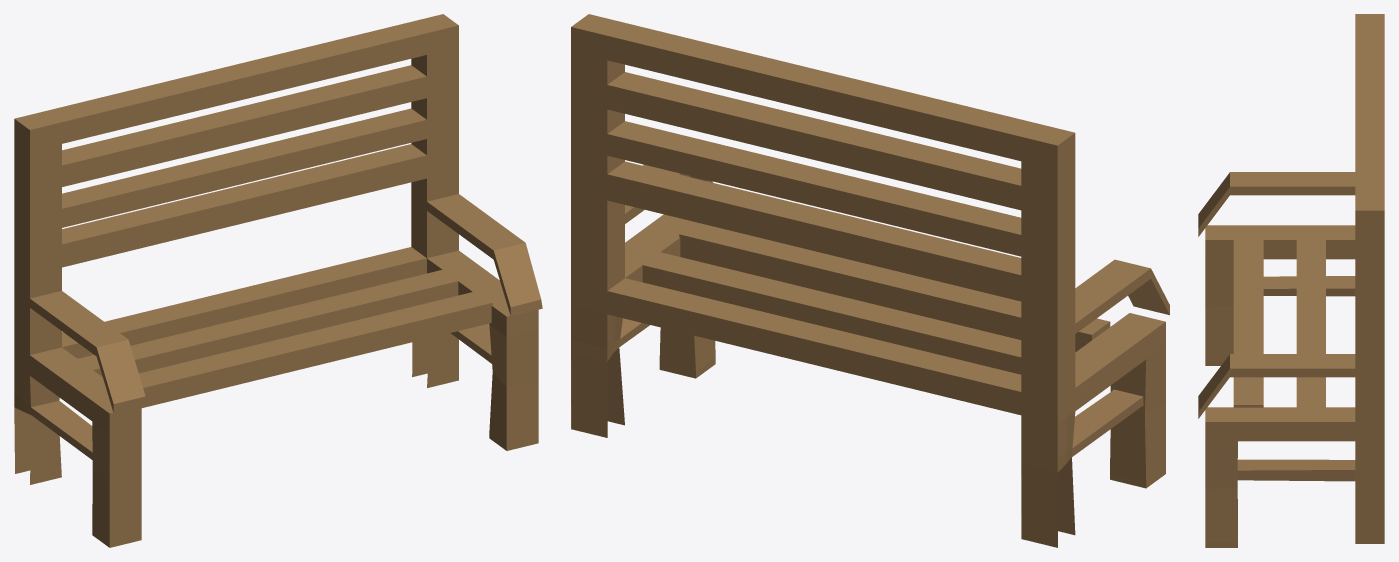
3 views of the same model, side by side, from view 1: azimuth 30°, elevation 25°; view 2: azimuth 150°, elevation 25°; view 3: azimuth 270°, elevation 25° (orthographic). The views are drawn at different scales.
Parts seen in each view (by area): view 1: Cube; view 2: Cube; view 3: Cube.
Boxes of the visible parts, x1=… form: Cube: x1=14, y1=14, x2=542, y2=547; Cube: x1=571, y1=14, x2=1169, y2=547; Cube: x1=1198, y1=14, x2=1384, y2=547.
Size of the model in its own units: 50 by 40 by 20.
